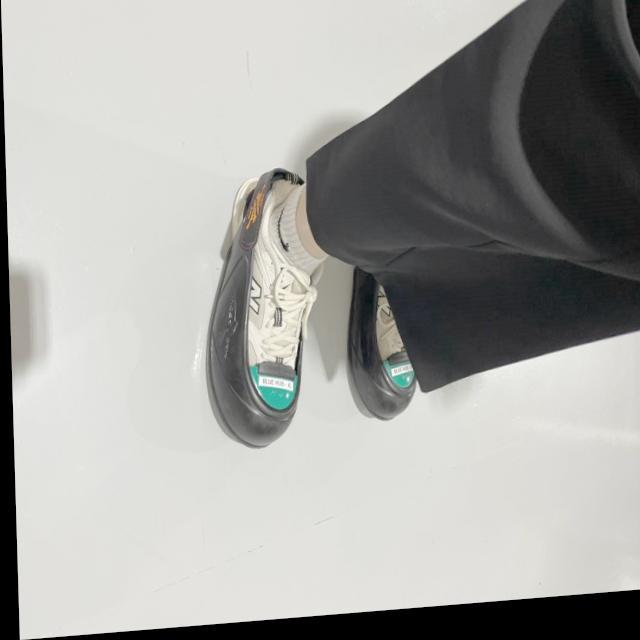shoes: (208, 162, 328, 446), (343, 266, 426, 428)
